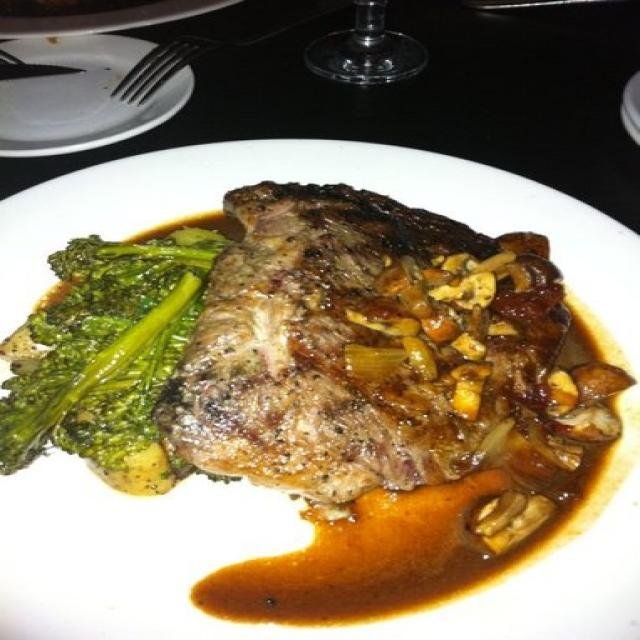Steak: (220, 200, 604, 501)
